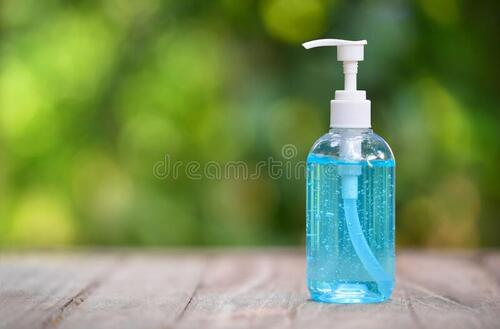sanitizer: (297, 36, 401, 305)
